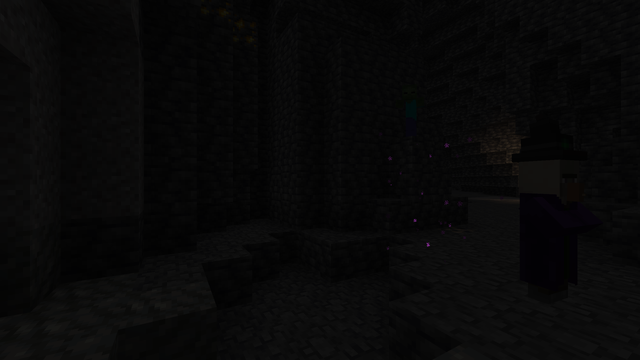sorcieres: (512, 152, 585, 311)
zombies: (402, 84, 420, 130)
